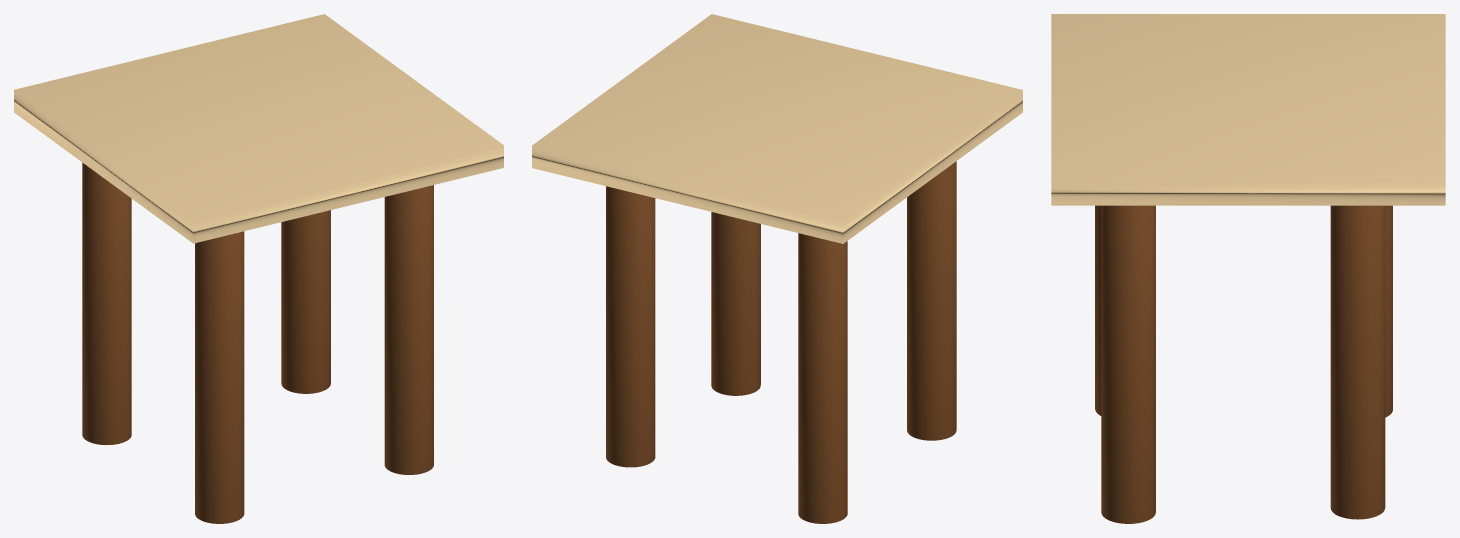
File: mesa.glb
3 views of the same model, side by side, from view 1: azimuth 30°, elevation 25°; view 2: azimuth 150°, elevation 25°; view 3: azimuth 270°, elevation 25° (orthographic). The views are drawn at different scales.
Parts seen in each view (by area): view 1: Cubo, Cilindro.002, Cilindro, Cilindro.001, Cilindro.003; view 2: Cubo, Cilindro.001, Cilindro.003, Cilindro.002, Cilindro; view 3: Cubo, Cilindro.003, Cilindro, Cilindro.001, Cilindro.002.
Part boxes in pixels (left/top/right/bottom): Cubo: left=14, top=14, right=503, bottom=243; Cilindro.002: left=195, top=231, right=244, bottom=523; Cilindro: left=384, top=185, right=433, bottom=474; Cilindro.001: left=82, top=162, right=131, bottom=445; Cilindro.003: left=281, top=210, right=330, bottom=393; Cubo: left=532, top=14, right=1022, bottom=243; Cilindro.001: left=798, top=233, right=847, bottom=523; Cilindro.003: left=606, top=186, right=655, bottom=467; Cilindro.002: left=907, top=161, right=956, bottom=440; Cilindro: left=711, top=212, right=760, bottom=395; Cubo: left=1051, top=14, right=1445, bottom=205; Cilindro.003: left=1330, top=205, right=1385, bottom=519; Cilindro: left=1101, top=205, right=1155, bottom=523; Cilindro.001: left=1385, top=205, right=1392, bottom=417; Cilindro.002: left=1095, top=205, right=1101, bottom=415.
Size of the model in its own units: 13.02 by 13.3 by 13.02.
